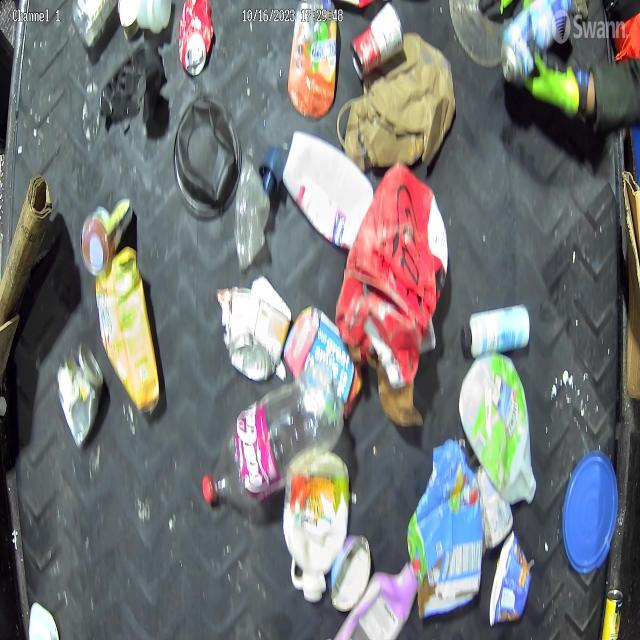can: (348, 6, 414, 79), (175, 0, 223, 86)
milk_jug: (459, 364, 538, 509), (286, 443, 354, 602)
plastic_bottle: (195, 375, 342, 514)
